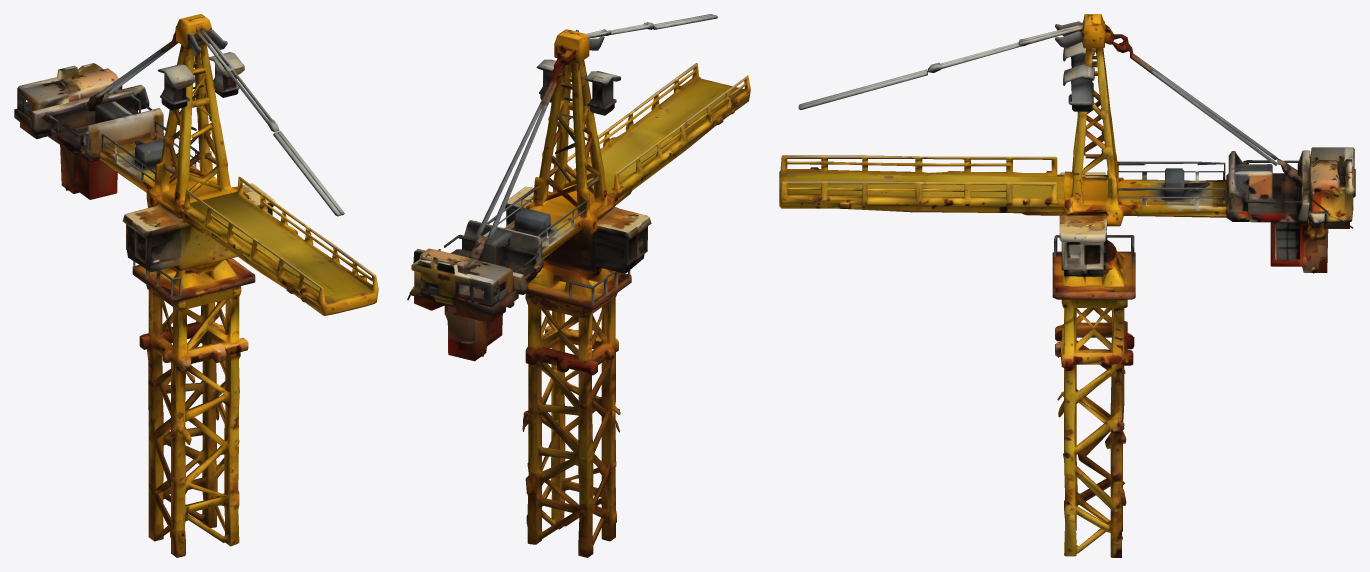
The model's file is tower_crane.glb.
3 views of the same model, side by side, from view 1: azimuth 30°, elevation 25°; view 2: azimuth 150°, elevation 25°; view 3: azimuth 270°, elevation 25° (orthographic). The views are drawn at different scales.
Visible parts, largest first — view 1: tripo_node_727bc1b5-80c0-41fe-9b20-f002af62d7fa; view 2: tripo_node_727bc1b5-80c0-41fe-9b20-f002af62d7fa; view 3: tripo_node_727bc1b5-80c0-41fe-9b20-f002af62d7fa.
Boxes of the visible parts, box(x1,y1,x2,y2) form: tripo_node_727bc1b5-80c0-41fe-9b20-f002af62d7fa: box(14, 14, 378, 557); tripo_node_727bc1b5-80c0-41fe-9b20-f002af62d7fa: box(407, 14, 750, 557); tripo_node_727bc1b5-80c0-41fe-9b20-f002af62d7fa: box(779, 14, 1355, 557).
Size of the model in its own units: 0.2642 by 1 by 0.9941.
Materials: 1 (1 with a texture image).
